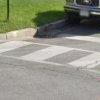crosswalk: (0, 40, 100, 69)
